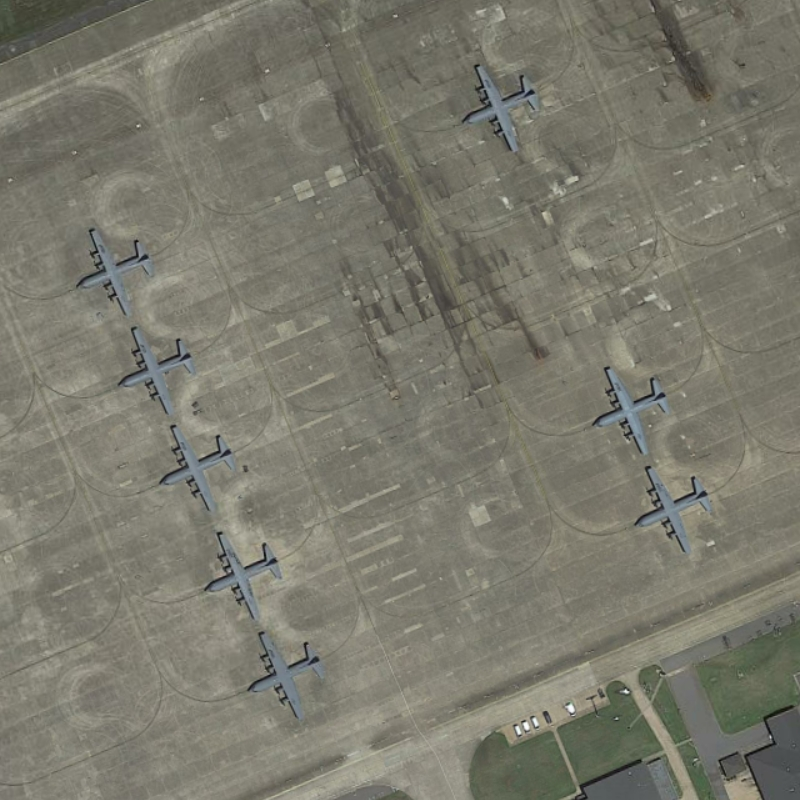A2: (241, 628, 332, 725), (200, 526, 289, 624), (113, 322, 202, 417), (456, 60, 543, 156), (632, 462, 718, 557), (154, 421, 242, 513), (72, 226, 159, 319), (587, 362, 672, 457)
